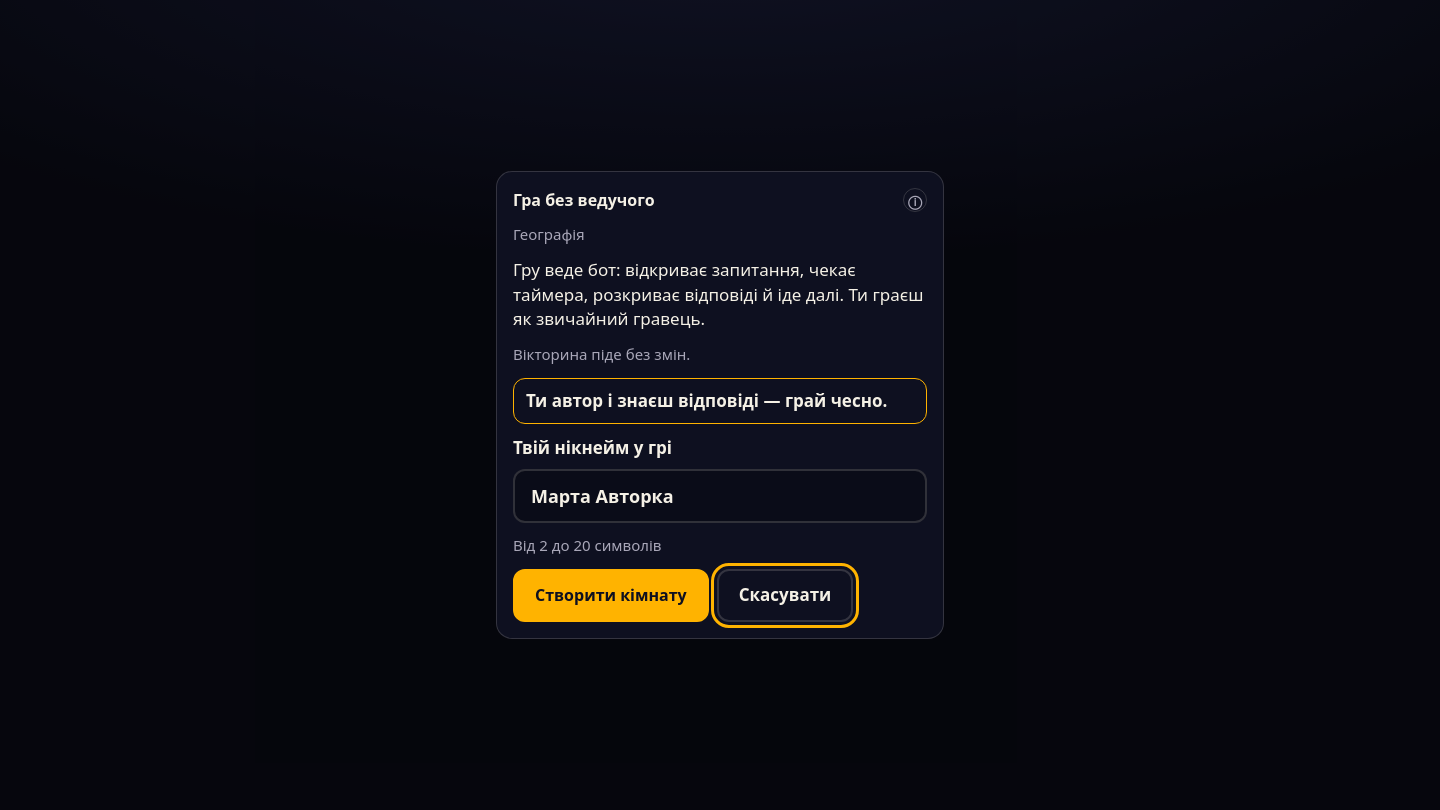
AutopilotLaunch › a nickname error from the server is shown
This screenshot has width=1440, height=810.
Click the button "Створити кімнату".
click(611, 595)  # box [513,569,709,622]
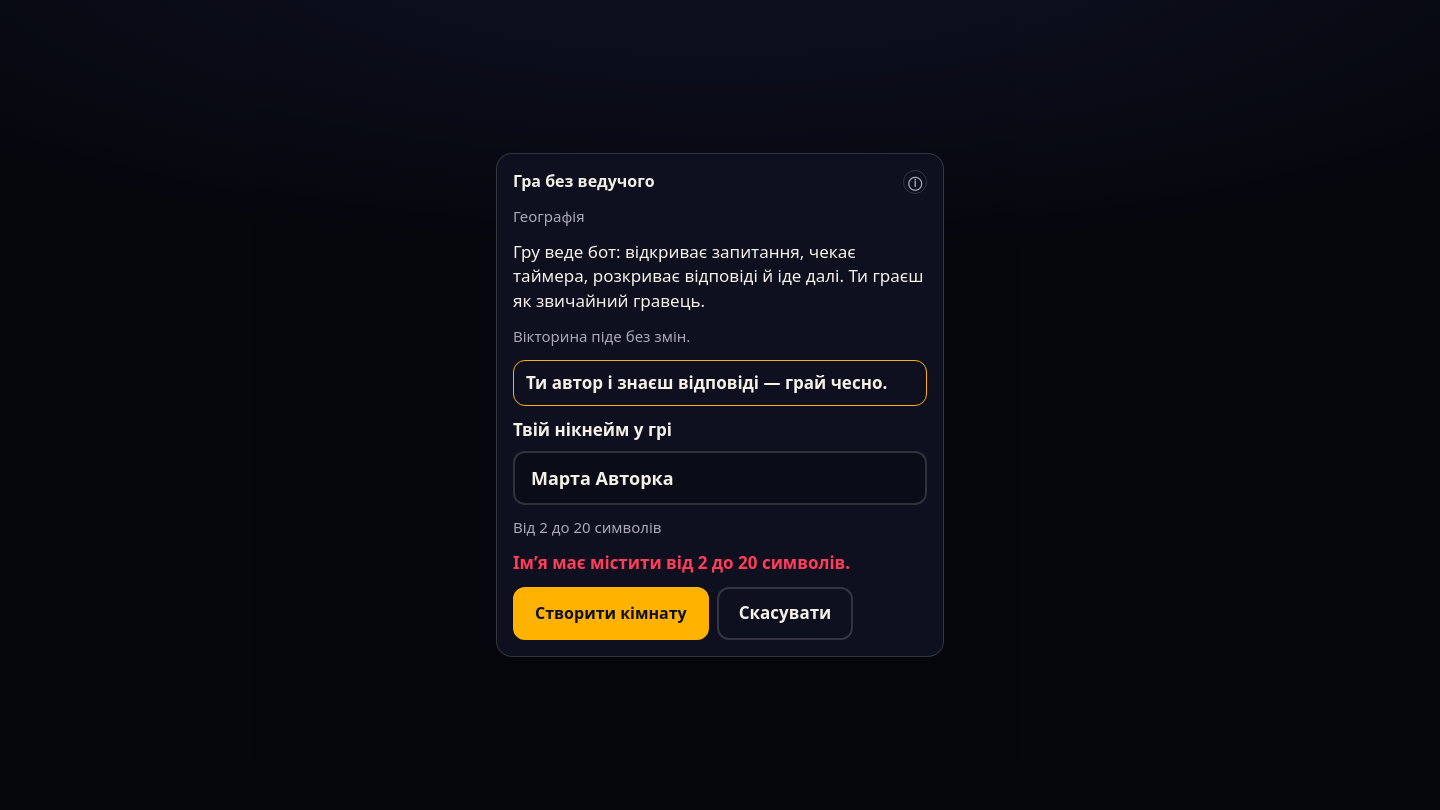
expect the message reads "Ім’я має містити від 2 до 20 символів.": met, box [513,551,850,574]
